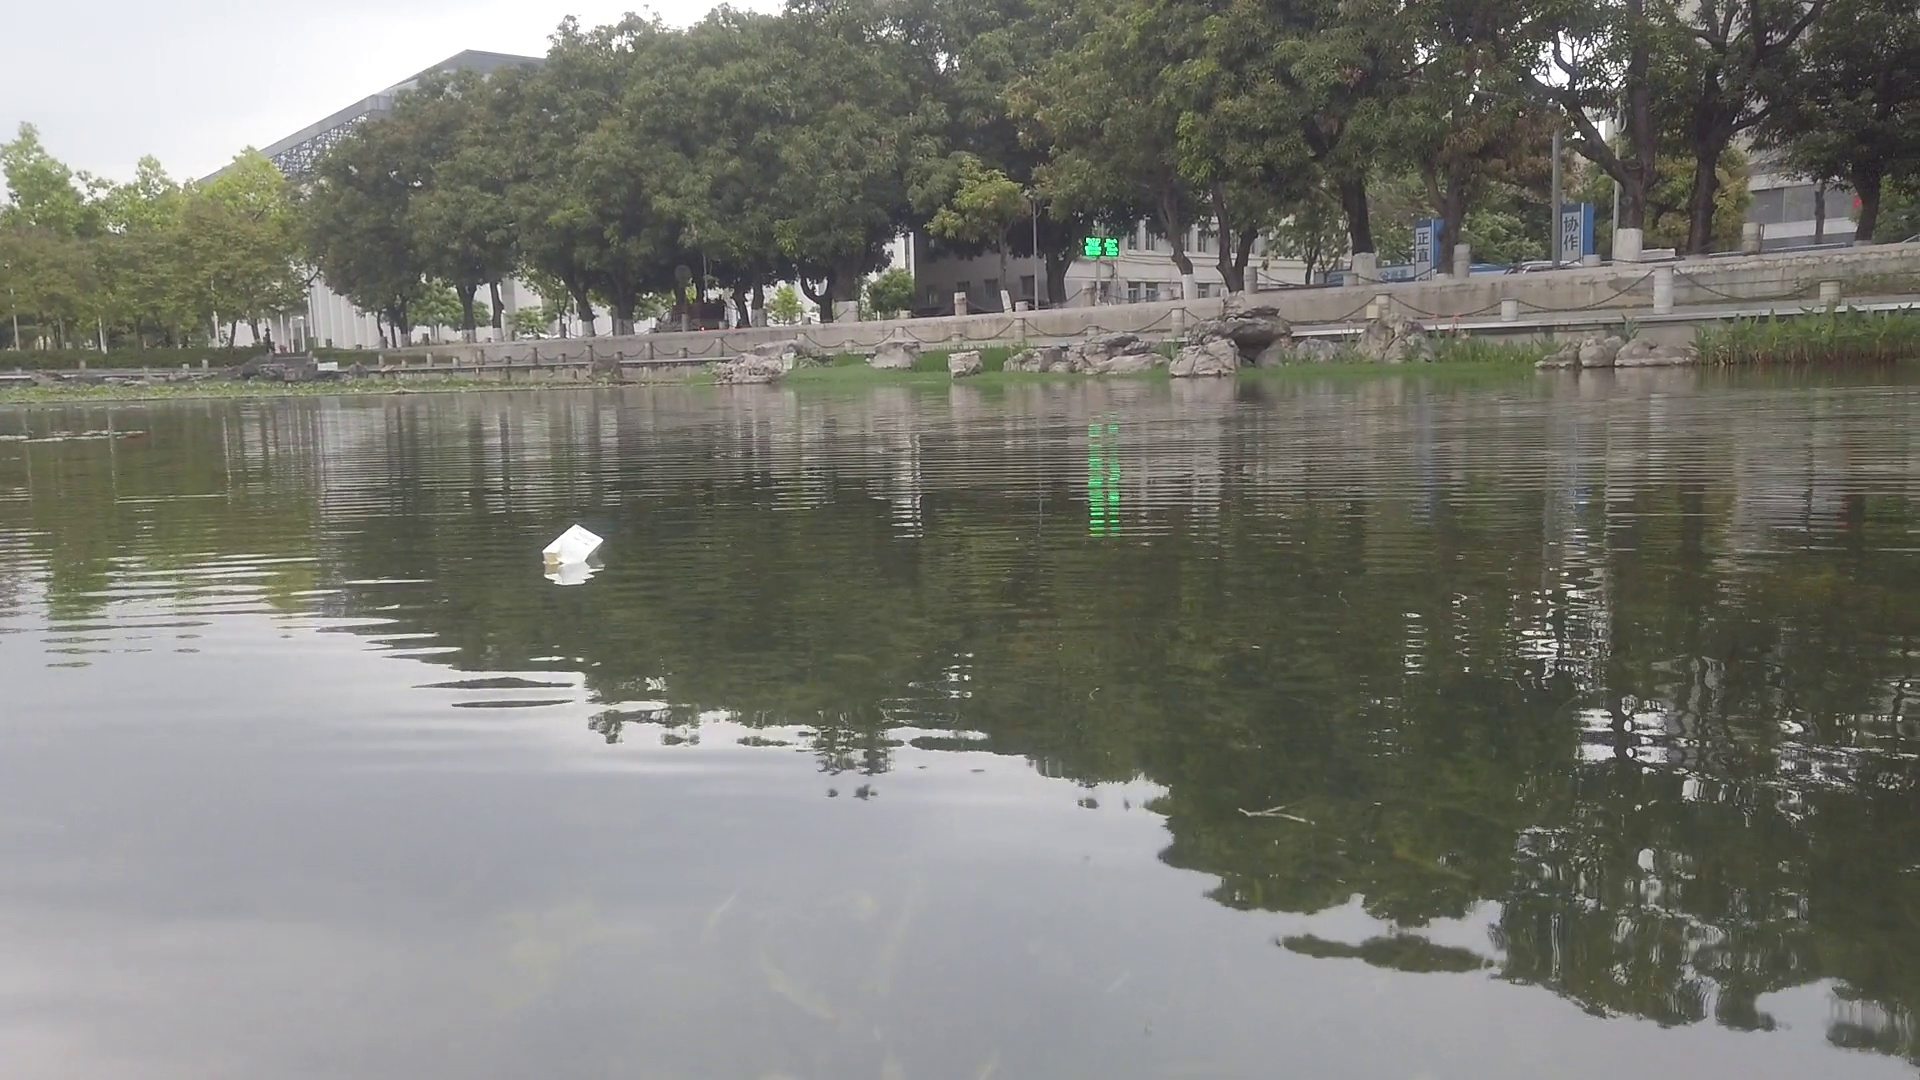carton: (543, 522, 607, 578)
